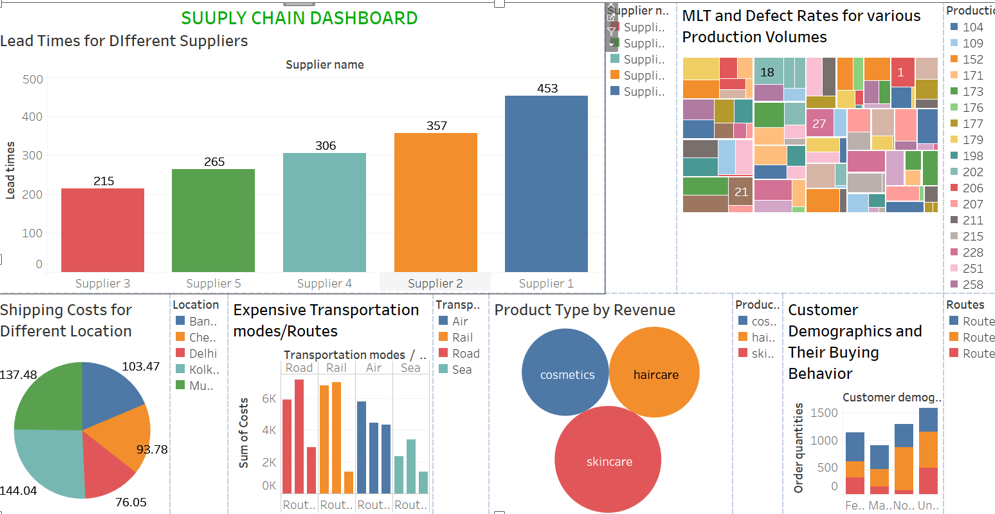

This screenshot's page, from the dashboard's own definition file:
{"tool":"tableau","page":{"name":"Dashboard 1","canvas":[1000,1000],"units":"permille","ordinal":0},"visuals":[{"type":"worksheet","title":"Sheet 2","mark":"Automatic","rows":["Lead times"],"cols":["Supplier name"],"box":[5,9.8,591.6,558.7]},{"type":"legend","title":"Sheet 2","param":"[federated.0brjkf1080xwl11di8oww1prwpjt].[none:Supplier name:nk]","box":[596.6,9.8,69.8,558.7]},{"type":"worksheet","title":"Sheet 4","mark":"Automatic","box":[666.5,9.8,258.7,558.7]},{"type":"legend","title":"Sheet 4","param":"[federated.0brjkf1080xwl11di8oww1prwpjt].[none:Production volumes:ok]","box":[925.2,9.8,69.9,558.7]},{"type":"worksheet","title":"Sheet 3","mark":"Pie","box":[5,568.5,170.2,421.8]},{"type":"legend","title":"Sheet 3","param":"[federated.0brjkf1080xwl11di8oww1prwpjt].[none:Location:nk]","box":[175.2,568.5,56.1,421.8]},{"type":"worksheet","title":"Sheet 6","mark":"Automatic","rows":["Costs"],"cols":["Transportation modes","Routes"],"box":[231.3,568.5,198.9,421.8]},{"type":"legend","title":"Sheet 6","param":"[federated.0brjkf1080xwl11di8oww1prwpjt].[none:Transportation modes:nk]","box":[430.2,568.5,54.2,421.8]},{"type":"worksheet","title":"Sheet 1","mark":"Circle","box":[484.4,568.5,236.3,421.8]},{"type":"legend","title":"Sheet 1","param":"[federated.0brjkf1080xwl11di8oww1prwpjt].[none:Product type:nk]","box":[720.7,568.5,48.6,421.8]},{"type":"worksheet","title":"Sheet 5","mark":"Automatic","rows":["Order quantities"],"cols":["Customer demographics"],"box":[769.3,568.5,155.8,421.8]},{"type":"legend","title":"Sheet 5","param":"[federated.0brjkf1080xwl11di8oww1prwpjt].[none:Routes:nk]","box":[925.2,568.5,69.9,421.8]}]}

Visuals, with their boxes on the dashboard's canvas, which has no fixed pixel size, in thousandths of its width and height (x1, y1, x2, y2). These are canvas units, not pixel positions in the 995x514 screenshot, which may show the page scaled, cropped or inside an application window:
"Sheet 2" worksheet: 5/10/597/568
"Sheet 2" legend: 597/10/666/568
"Sheet 4" worksheet: 666/10/925/568
"Sheet 4" legend: 925/10/995/568
"Sheet 3" worksheet (Pie marks): 5/568/175/990
"Sheet 3" legend: 175/568/231/990
"Sheet 6" worksheet: 231/568/430/990
"Sheet 6" legend: 430/568/484/990
"Sheet 1" worksheet (Circle marks): 484/568/721/990
"Sheet 1" legend: 721/568/769/990
"Sheet 5" worksheet: 769/568/925/990
"Sheet 5" legend: 925/568/995/990
